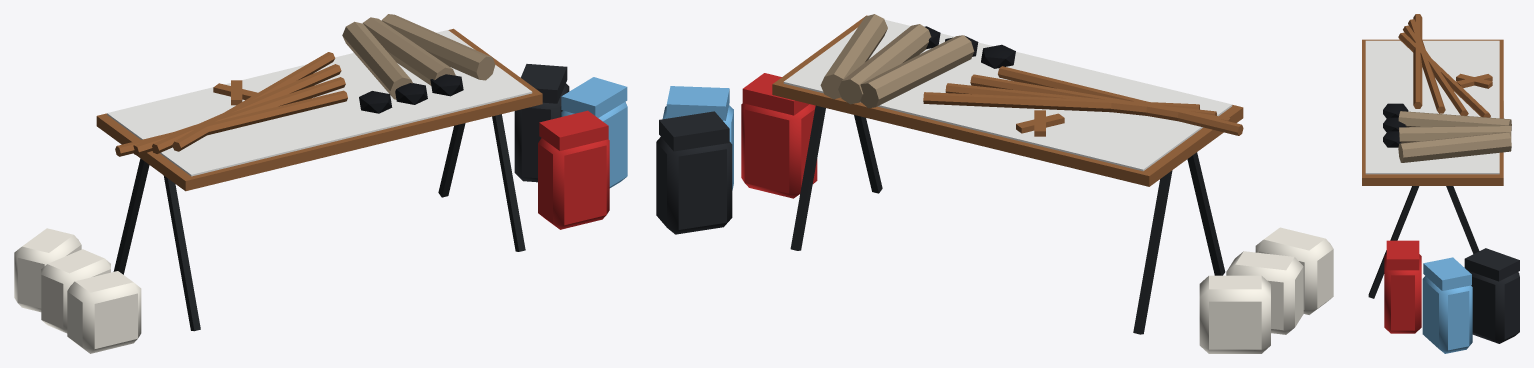
The model's file is requisa.fbx.
The picture shows the model from 3 angles, left to right: view 1: azimuth 30°, elevation 25°; view 2: azimuth 150°, elevation 25°; view 3: azimuth 270°, elevation 25°; orthographic projection. The views are drawn at different scales.
Visible parts, largest first — view 1: requisa; view 2: requisa; view 3: requisa.
Boxes of the visible parts, <box> form: requisa: <box>14,14,627,353</box>; requisa: <box>656,14,1333,353</box>; requisa: <box>1362,14,1519,353</box>.
Bounding box in the file's own units: 3.64 × 1.09 × 1.06.
